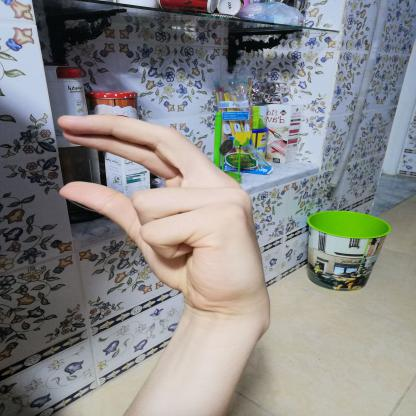DHELL: (43, 103, 281, 317)
